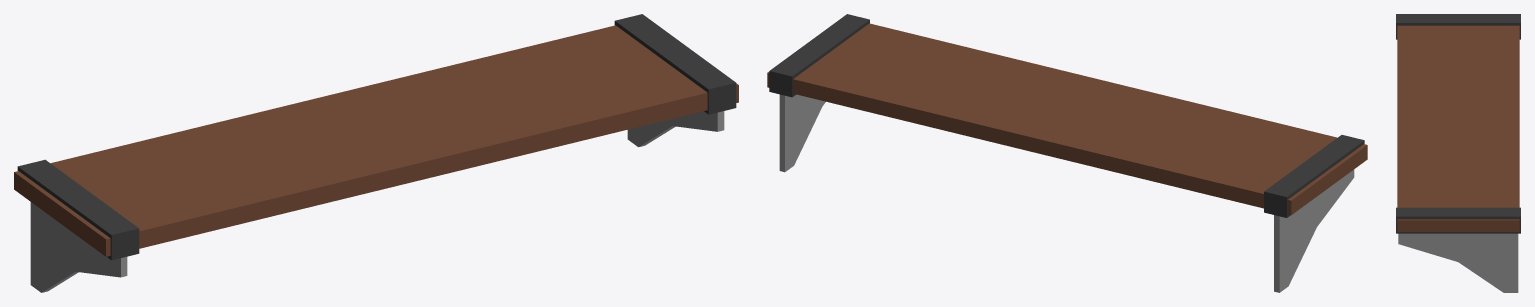
The model's file is Small Wall Shelf.fbx.
3 views of the same model, side by side, from view 1: azimuth 30°, elevation 25°; view 2: azimuth 150°, elevation 25°; view 3: azimuth 270°, elevation 25° (orthographic). The views are drawn at different scales.
Parts seen in each view (by area): view 1: Small Wall Shelf; view 2: Small Wall Shelf; view 3: Small Wall Shelf.
Boxes of the visible parts, x1,y1,x2,y2 form: Small Wall Shelf: (14,14,738,292); Small Wall Shelf: (767,14,1367,292); Small Wall Shelf: (1396,14,1520,292).
Size of the model in its own units: 154 by 27.88 by 39.63.
1 material, 1 textured.
